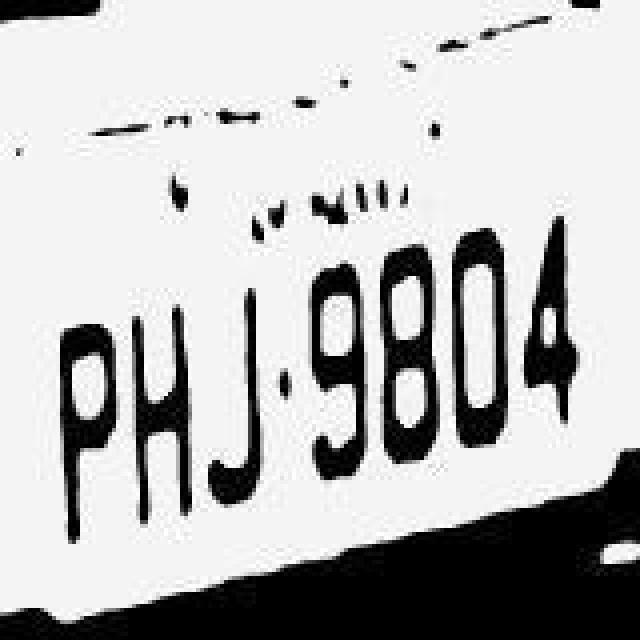4: (522, 188, 598, 452)
8: (376, 228, 448, 500)
9: (302, 240, 378, 520)
H: (130, 264, 206, 536)
J: (204, 260, 276, 524)
O: (448, 196, 520, 468)
P: (48, 278, 128, 546)
